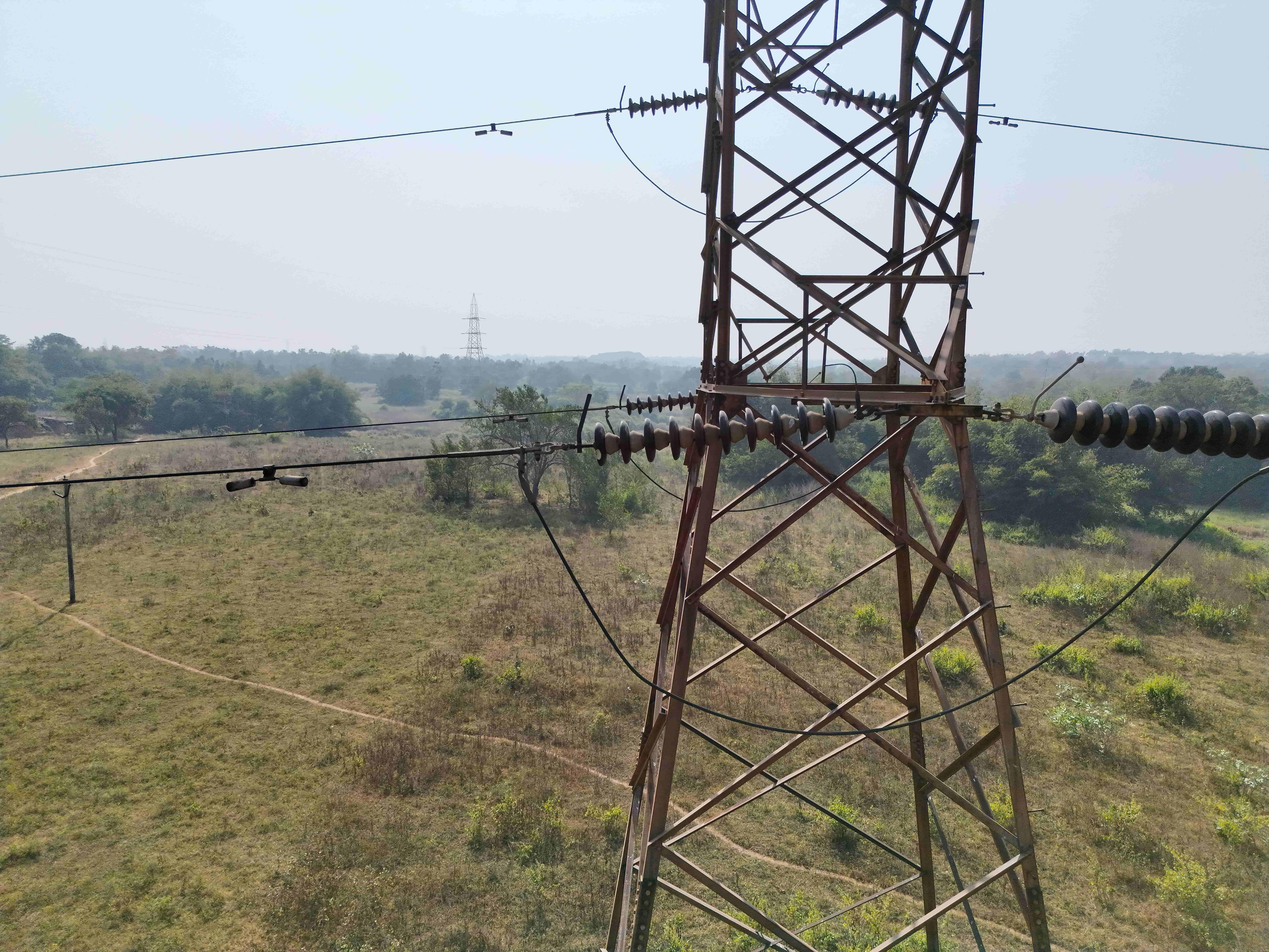broken_insulator: (585, 420, 615, 466)
